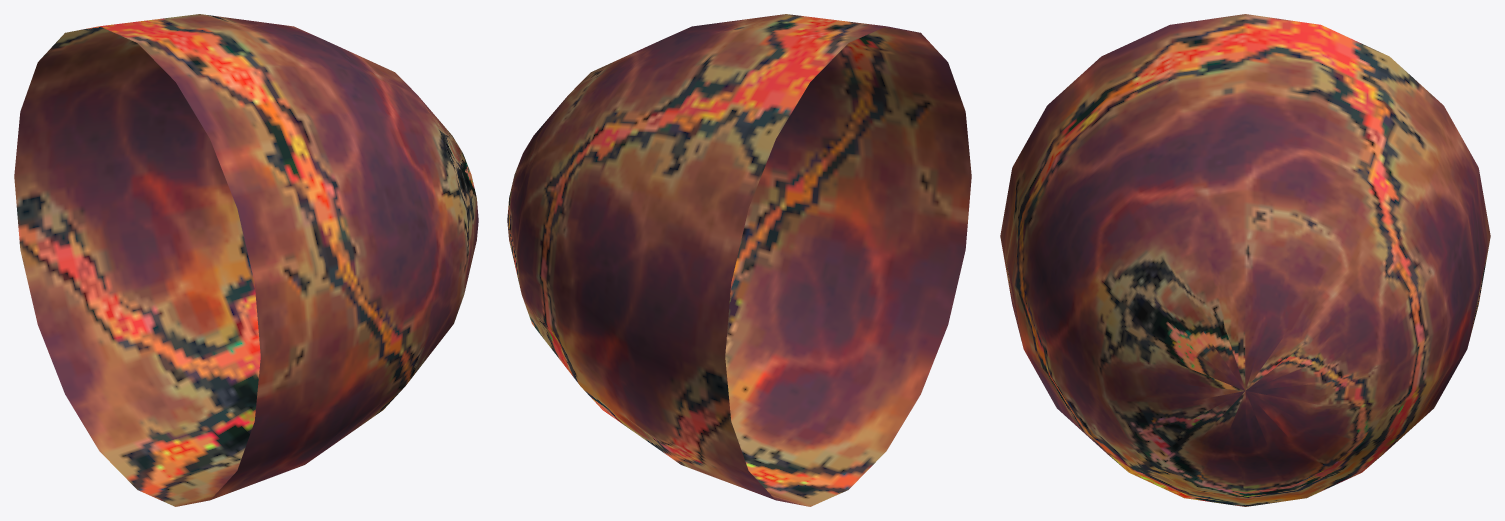
Rendered from Ani_Dd_Att_01_04.FBX.
The picture shows the model from 3 angles, left to right: view 1: azimuth 30°, elevation 25°; view 2: azimuth 150°, elevation 25°; view 3: azimuth 270°, elevation 25°; orthographic projection.
Parts seen in each view (by area): view 1: Sphere001; view 2: Sphere001; view 3: Sphere001.
Part boxes in pixels (box(x1,y1,x2,y2)): Sphere001: box(14, 14, 478, 506); Sphere001: box(507, 14, 971, 506); Sphere001: box(1000, 14, 1490, 506).
Bounding box in the file's own units: 14.93 × 20 × 20.
